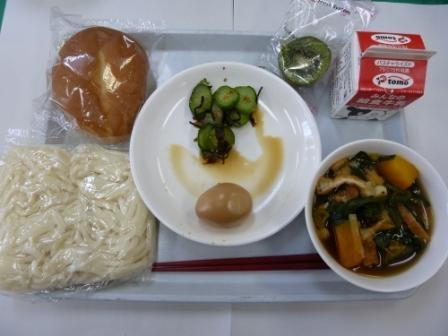Bread: (45, 16, 155, 141)
Milk: (336, 29, 432, 121)
Salad: (182, 76, 267, 165)
Udon: (5, 137, 152, 297)
kiwi: (267, 18, 338, 87)
vegetable soup: (299, 146, 447, 287)
